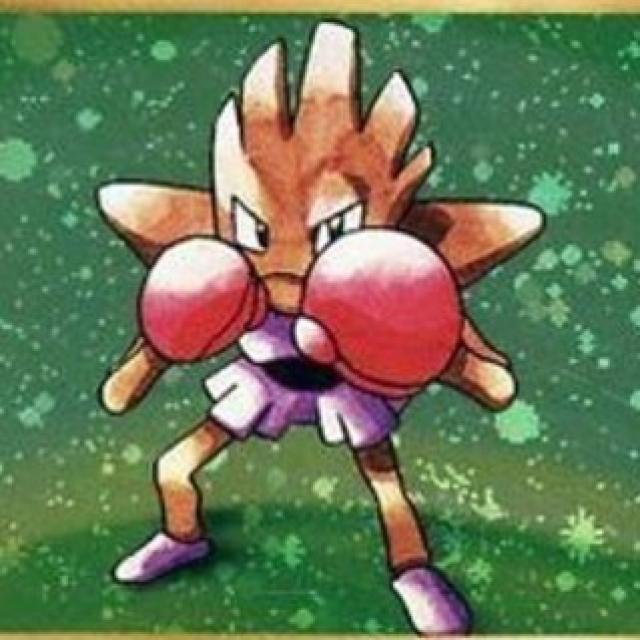Hitmonchan: (106, 22, 497, 580)
